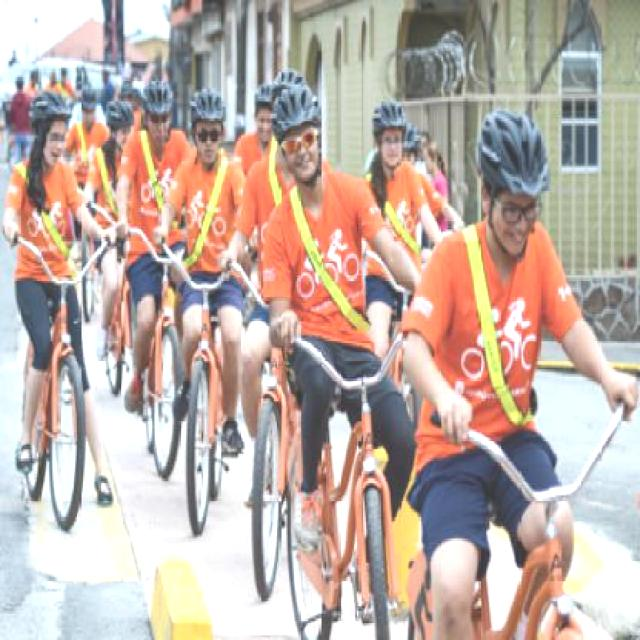With Helmet: (476, 102, 550, 263), (268, 82, 322, 186), (26, 84, 74, 164), (186, 84, 229, 168), (368, 96, 415, 172), (141, 72, 177, 152), (103, 97, 139, 152), (253, 82, 276, 146), (78, 83, 100, 134)
